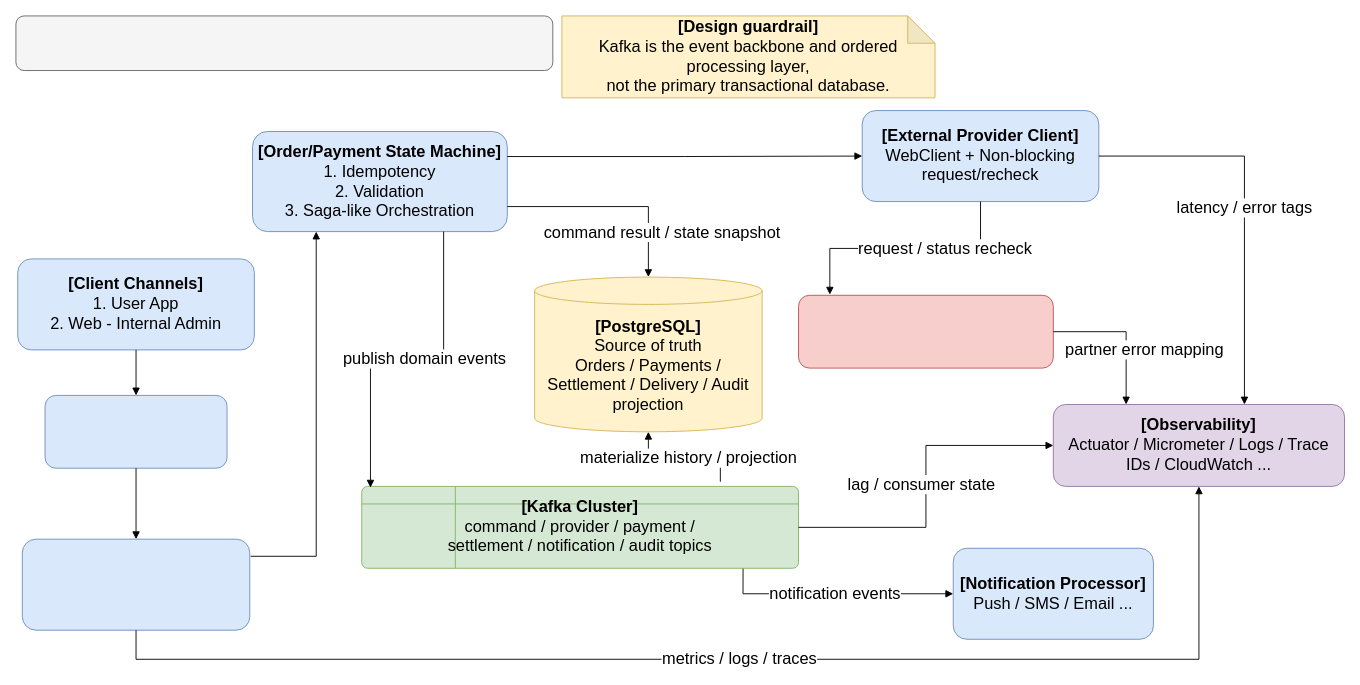
This 1360x685 diagram has some shape labels left out. The shapes that lost their labels are listed below. From the top down, each one's centre as x and y in pixels, then its label:
(x=284, y=43): Architecture - Kafka-Centric Orchestration Backend
(x=925, y=331): [External Providers] Order / Payment / Settlement partners
(x=135, y=431): [Spring Security] AuthN / AuthZ / API policy
(x=135, y=584): [Orchestration Backend] Spring MVC(Admin) + WebClient/Async IO
